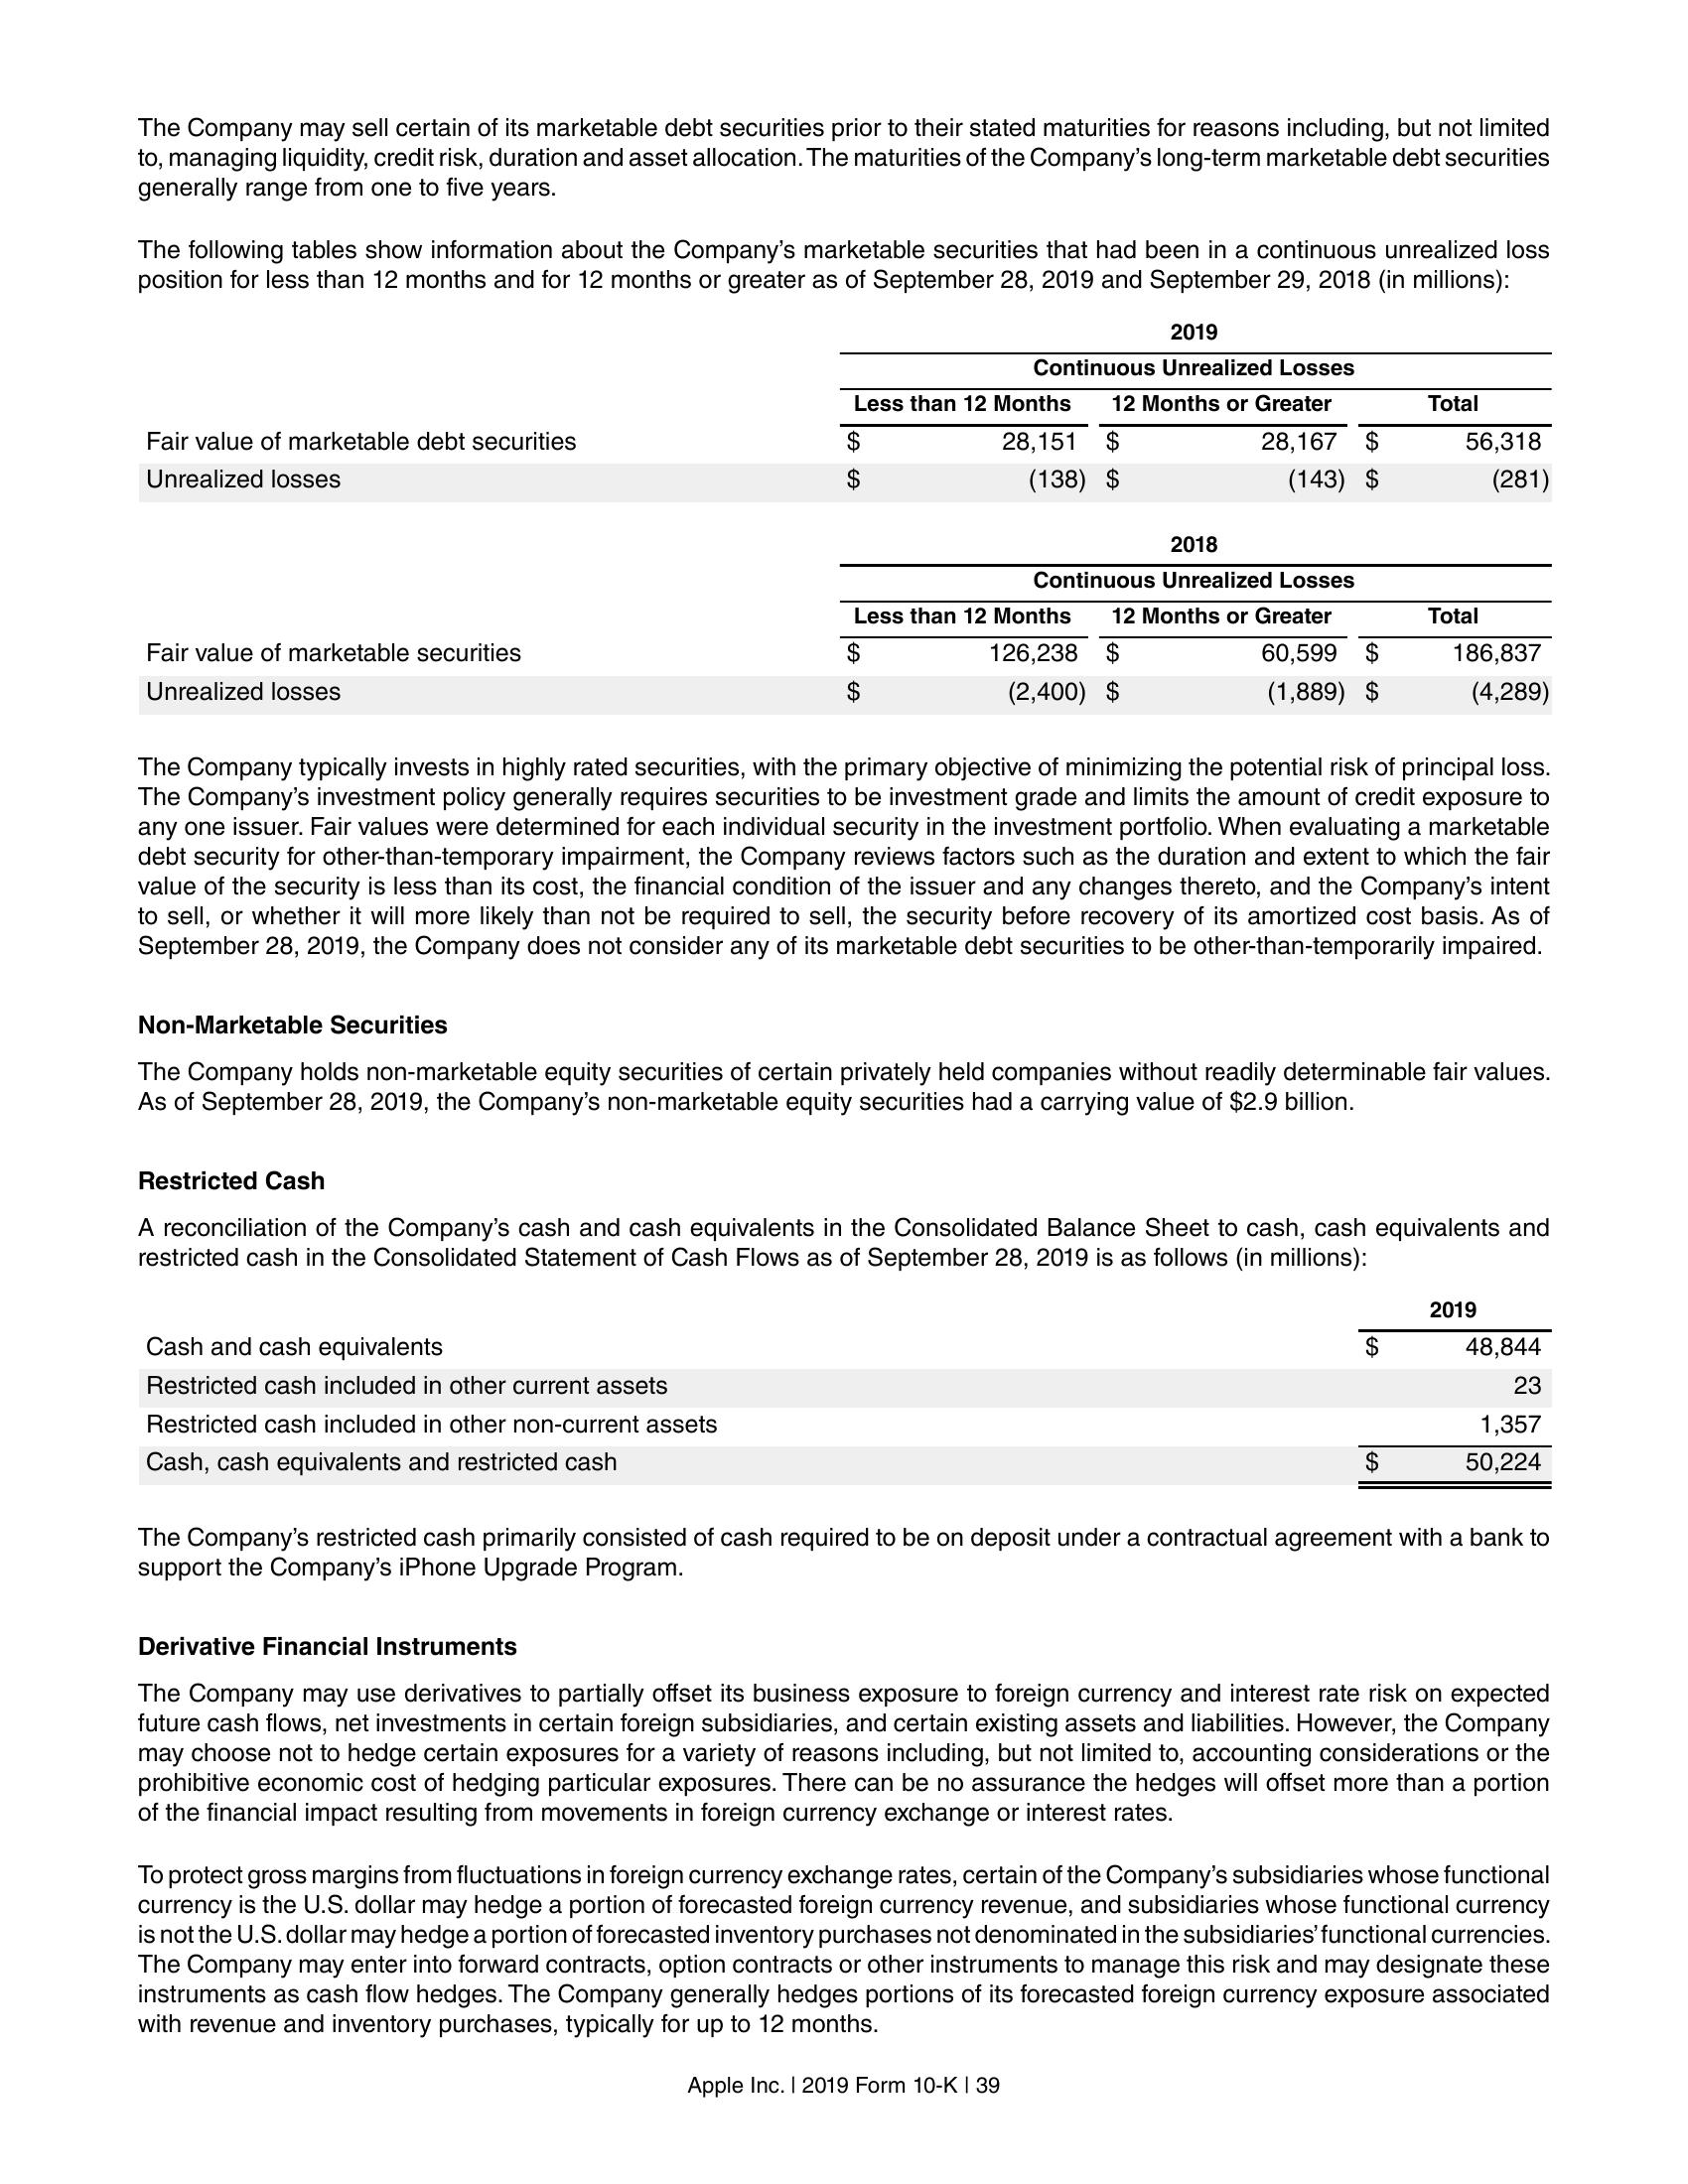table: (144, 319, 1559, 716), (137, 1298, 1551, 1496)
